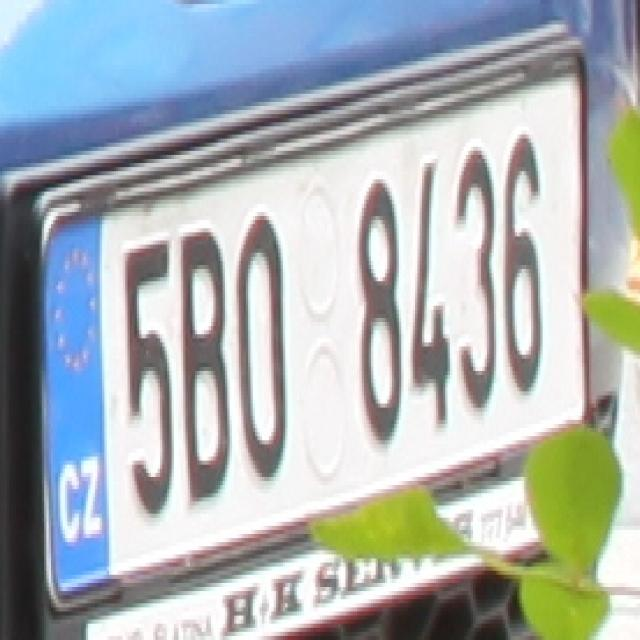0: (232, 208, 287, 493)
3: (452, 143, 496, 420)
4: (406, 159, 454, 444)
5: (118, 232, 172, 526)
6: (499, 126, 547, 400)
8: (350, 172, 401, 448)
B: (176, 224, 232, 510)
